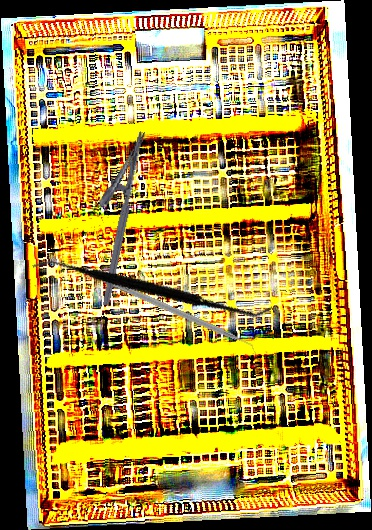Chopper: (99, 276, 263, 361)
Needle Holder: (78, 126, 147, 306)
Spatula Surgical: (31, 192, 274, 382)
